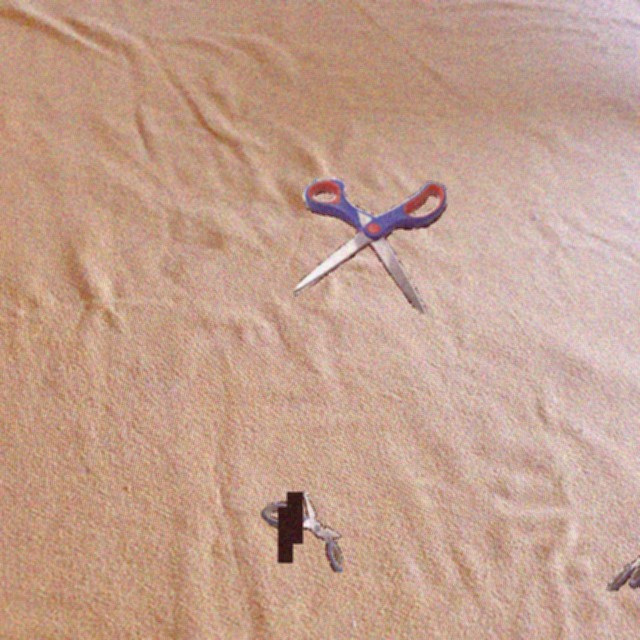scissors: (294, 177, 447, 314), (261, 491, 343, 572), (607, 539, 640, 591)
